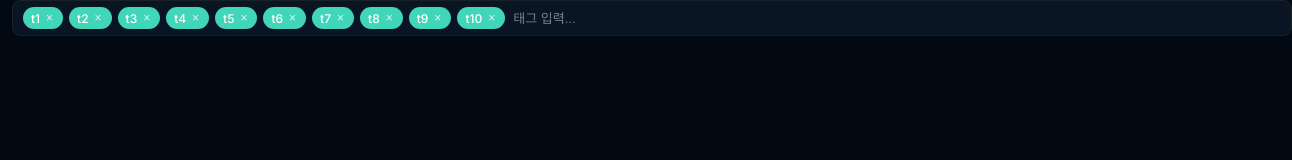
Test: TagInput › 이미 10개 태그가 있으면 추가를 막아야 한다
Type "new-tag" into the field with placeholder "태그 입력..." at (896, 18), box x1=511 y1=7 x2=1281 y2=29
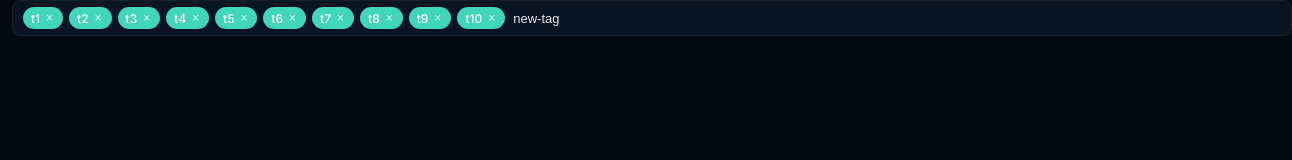
Press Enter in the field with placeholder "태그 입력...", box x1=511 y1=7 x2=1281 y2=29
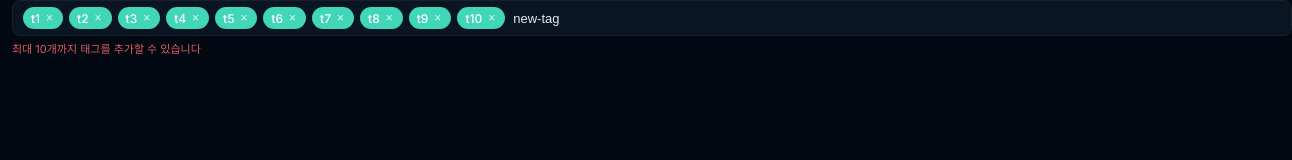
Expected: the text "최대 10개까지 태그를 추가할 수 있습니다" is shown, x1=12 y1=42 x2=201 y2=56
